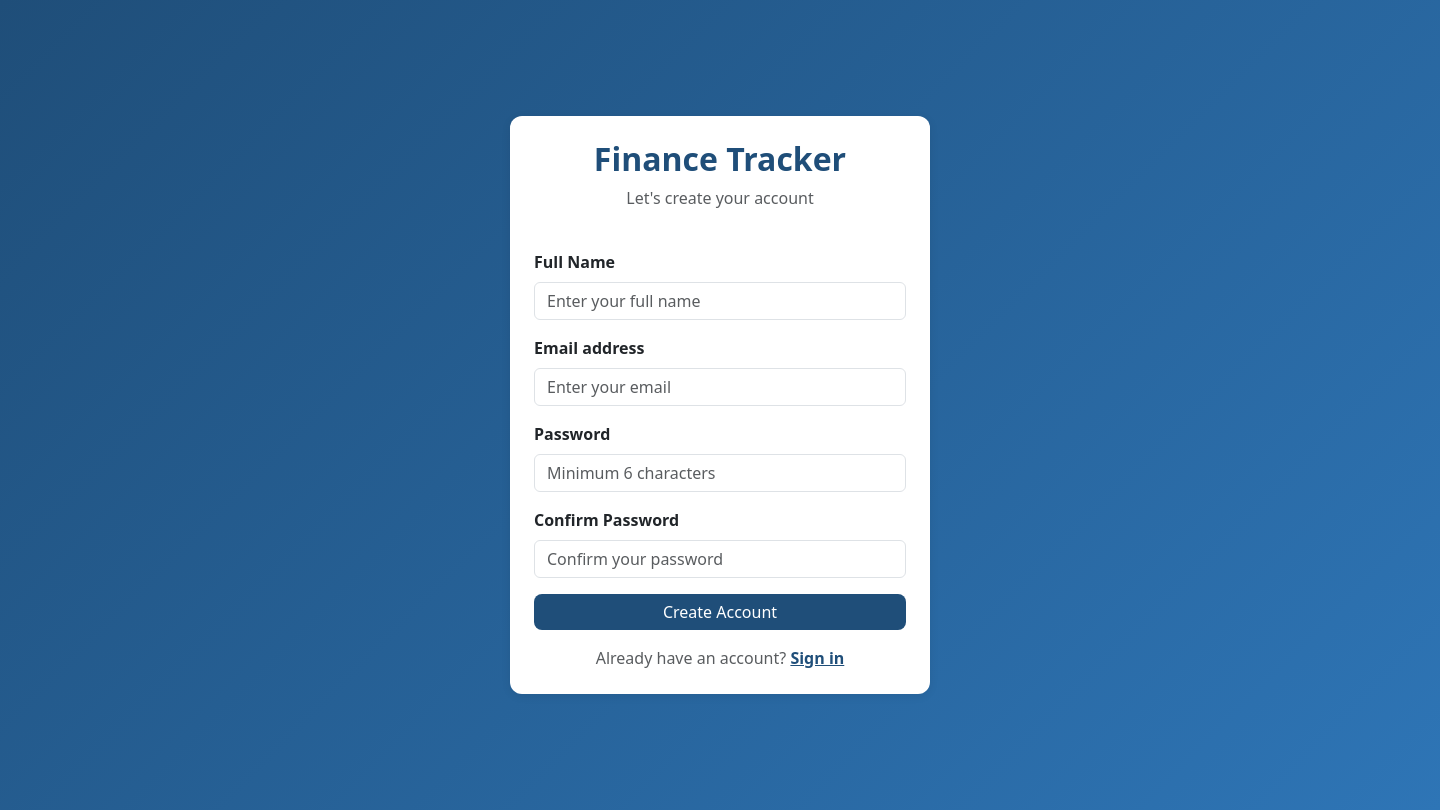
Test: Register Component › UT10 - Shows loading state when form is submitted
Type "Gourav Khurana" into the field with placeholder "Enter your full name".
click(720, 301); type("Gourav Khurana")  # box top-left (534, 282), bottom-right (906, 320)
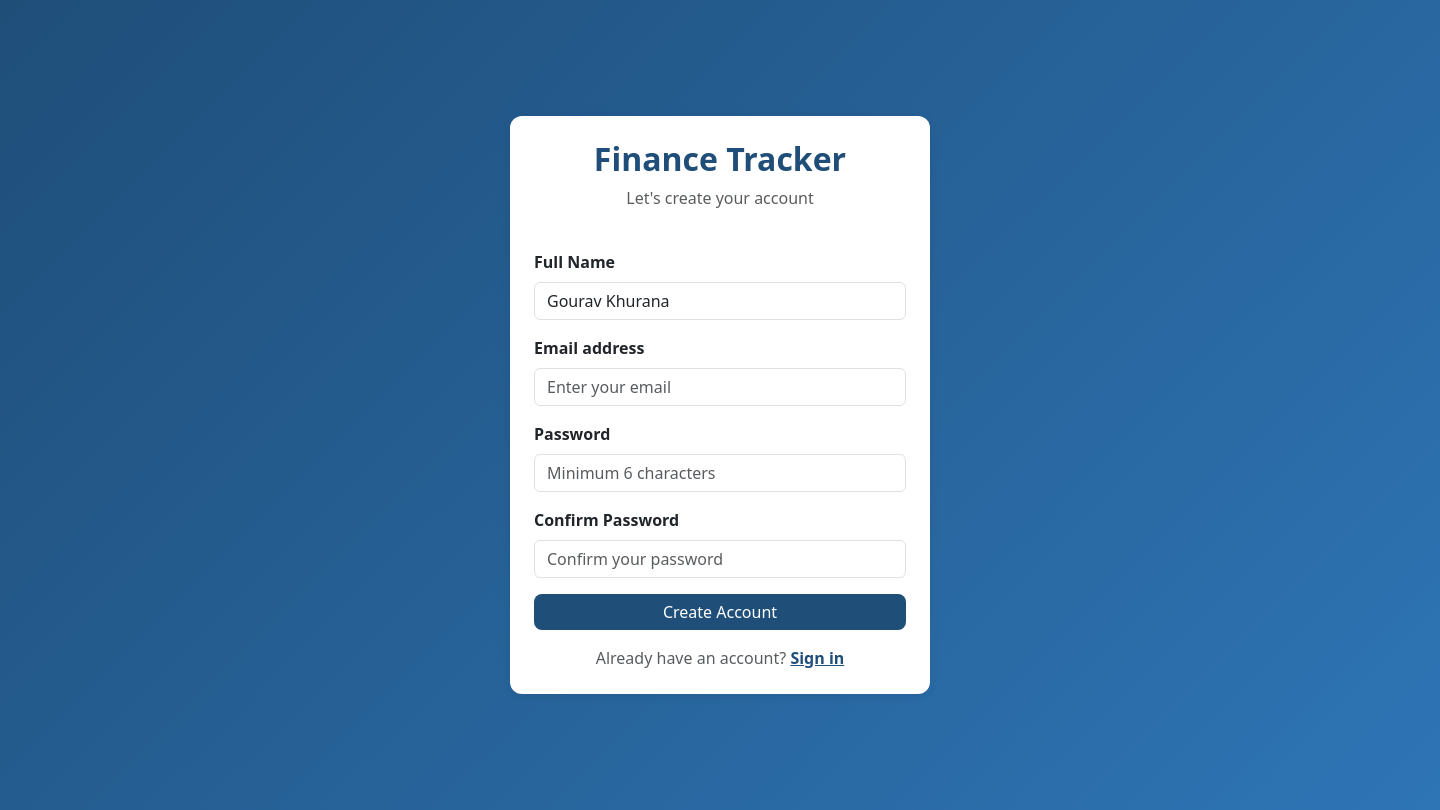
Type "new@gmail.com" into the field with placeholder "Enter your email".
click(720, 387); type("new@gmail.com")  # box top-left (534, 368), bottom-right (906, 406)
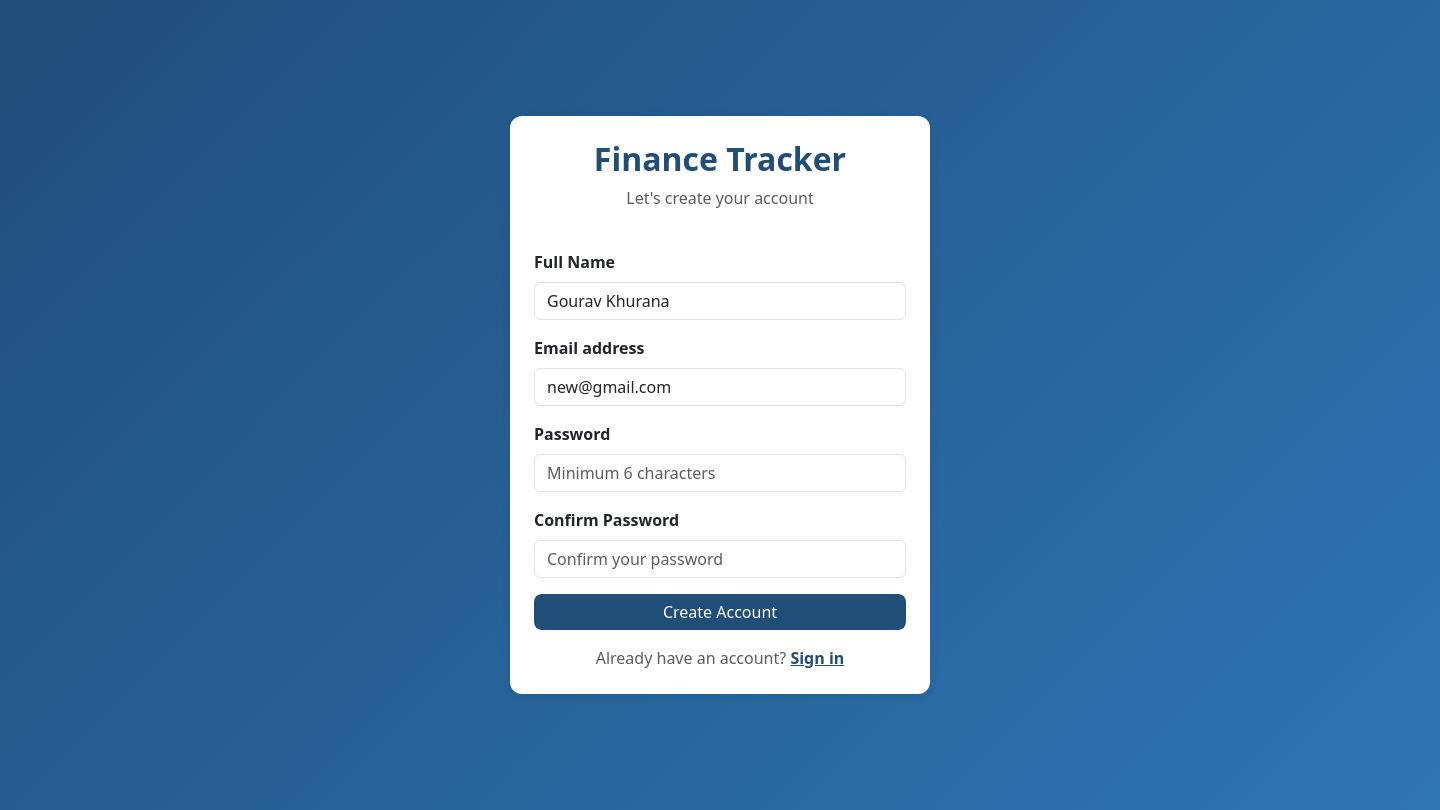
Type "password123" into the password field with placeholder "Minimum 6 characters".
click(720, 473); type("password123")  # box top-left (534, 454), bottom-right (906, 492)
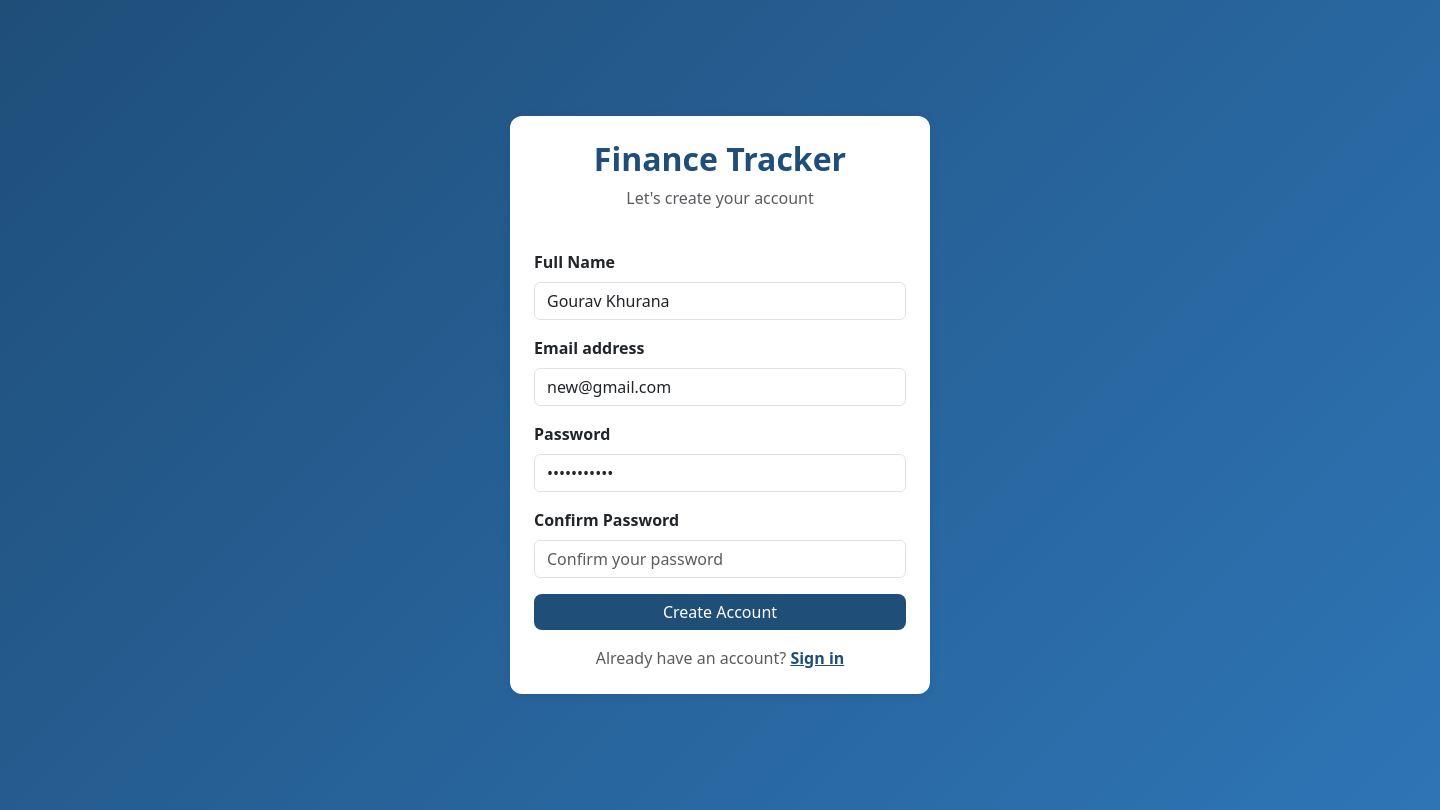
Type "password123" into the password field with placeholder "Confirm your password".
click(720, 559); type("password123")  # box top-left (534, 540), bottom-right (906, 578)
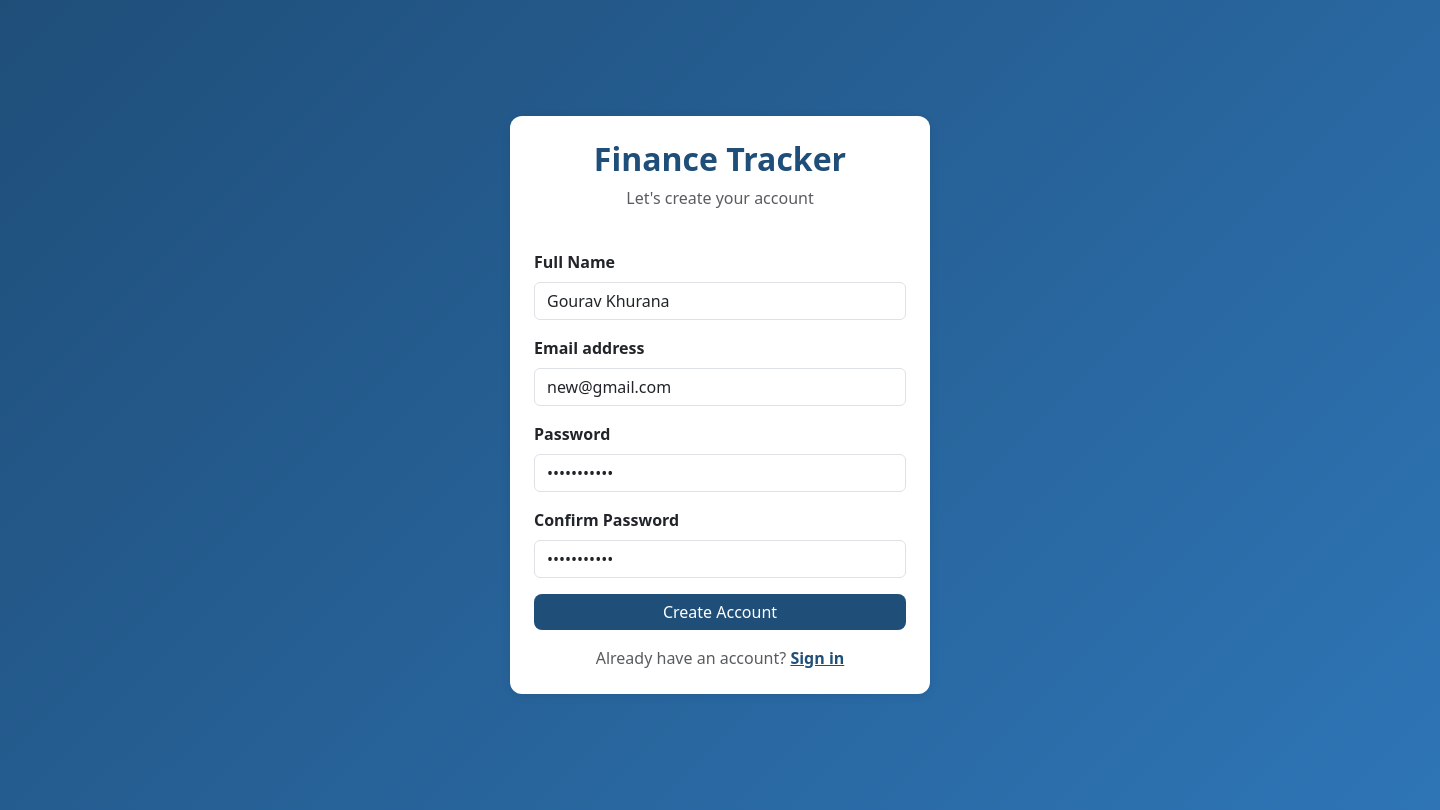
Click the button "Create Account".
click(720, 612)  # box top-left (534, 594), bottom-right (906, 630)
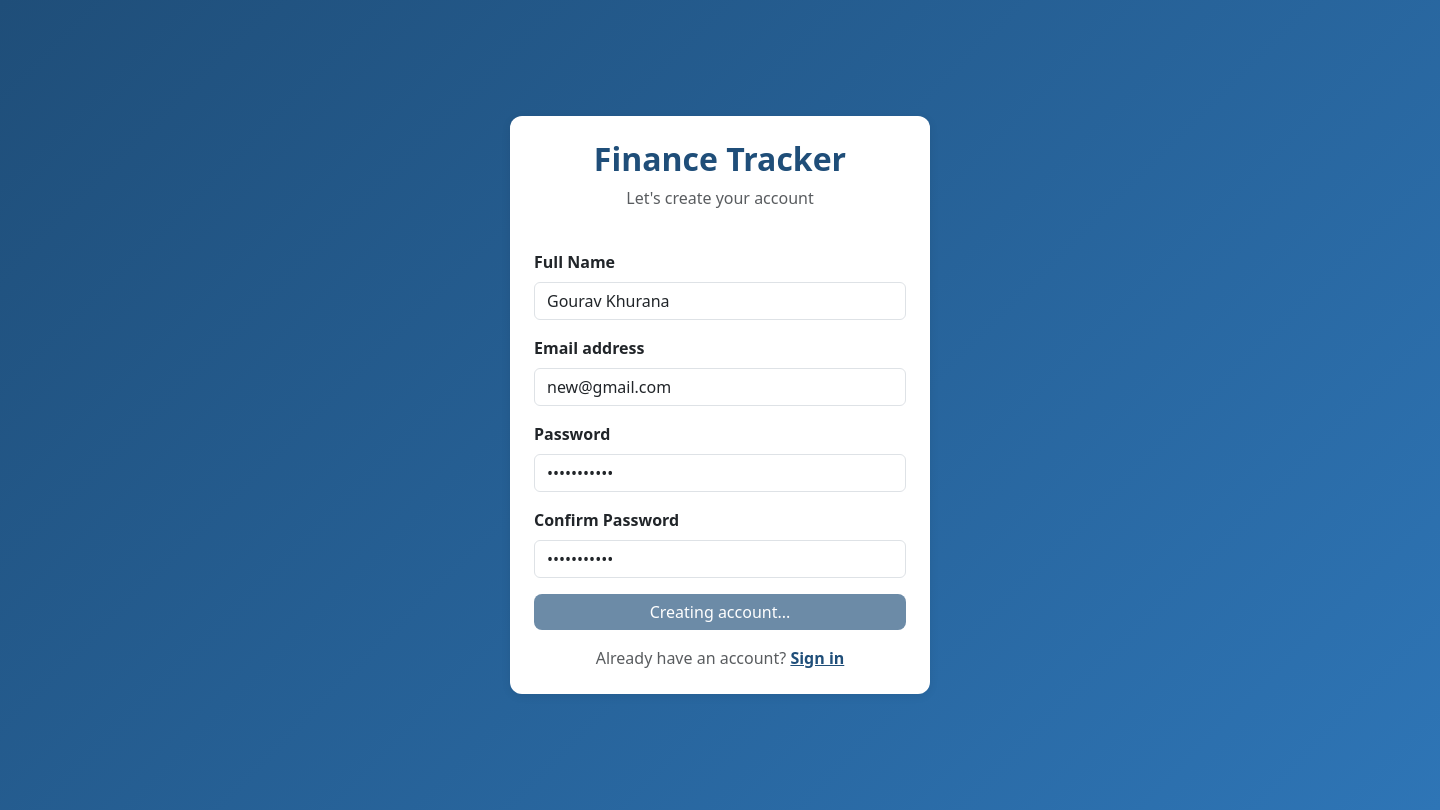
Expected: the button "Creating account..." is shown, top-left (534, 594), bottom-right (906, 630)
